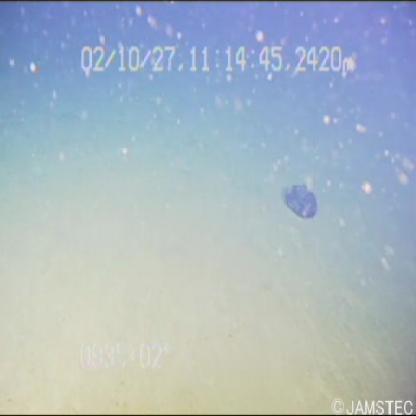Rác: (274, 169, 334, 231)
